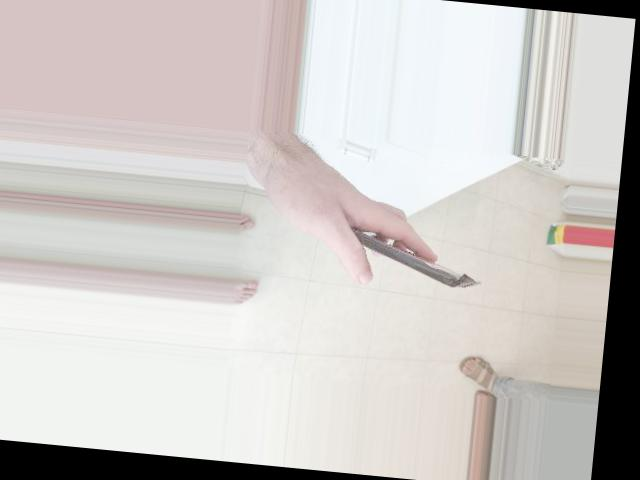chocolate: (320, 211, 489, 302)
